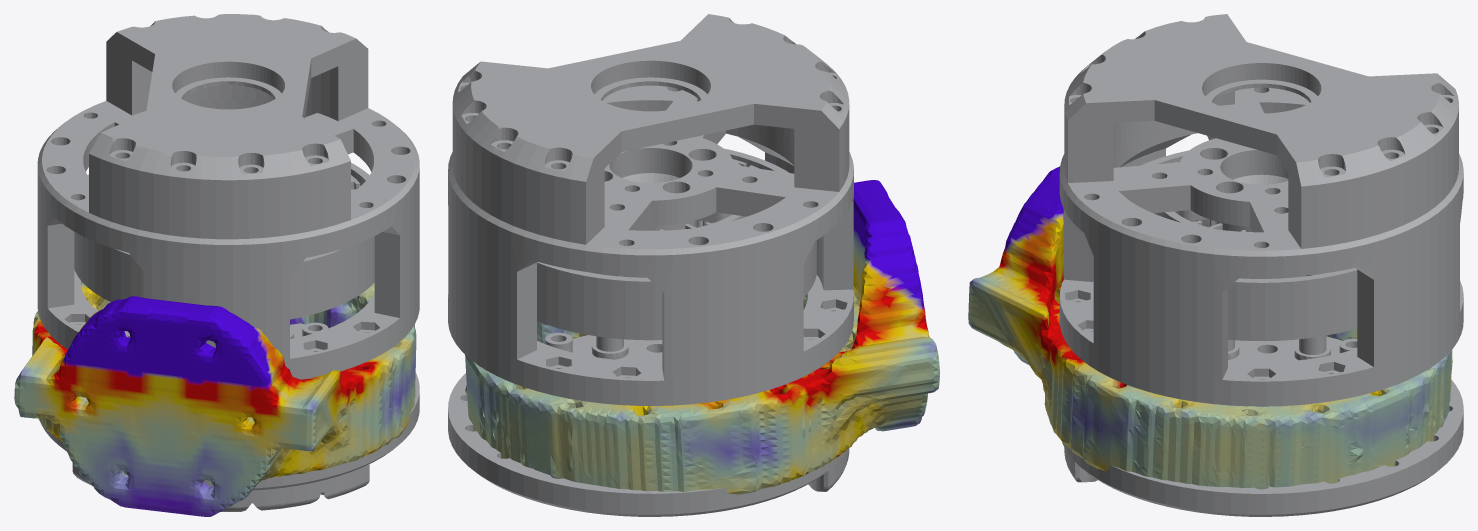
Rendered from leg_left_hip_yaw_opt.glb.
3 renders of one model, left to right at view 1: azimuth 30°, elevation 25°; view 2: azimuth 150°, elevation 25°; view 3: azimuth 270°, elevation 25°, orthographic. The views are drawn at different scales.
Parts seen in each view (by area): view 1: leg_left_hip_yaw_visual.stl; view 2: leg_left_hip_yaw_visual.stl; view 3: leg_left_hip_yaw_visual.stl.
Boxes of the visible parts, left/top/right/bottom form: leg_left_hip_yaw_visual.stl: left=14, top=14, right=419, bottom=516; leg_left_hip_yaw_visual.stl: left=448, top=14, right=939, bottom=516; leg_left_hip_yaw_visual.stl: left=968, top=14, right=1463, bottom=516.
Bounding box in the file's own units: 0.1085 × 0.089 × 0.1079.
